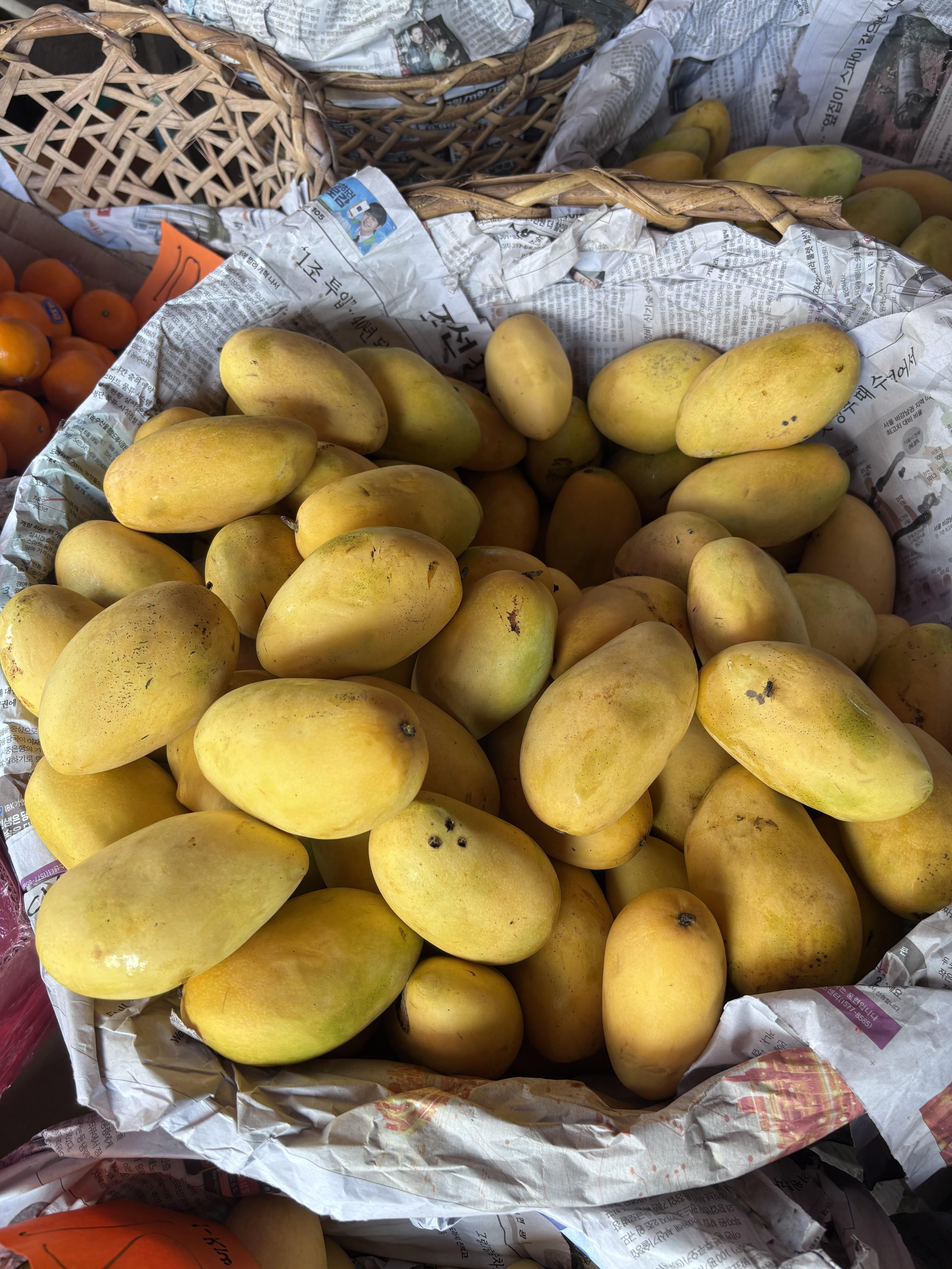mango: (36, 810, 308, 1000), (182, 888, 422, 1066), (697, 641, 933, 821), (38, 581, 239, 775), (520, 623, 698, 837), (195, 678, 428, 839), (369, 792, 560, 965), (256, 527, 462, 678), (603, 888, 726, 1097), (103, 415, 317, 533), (676, 323, 860, 457), (485, 314, 572, 440)
occluded: (684, 765, 861, 994), (483, 705, 652, 869), (413, 570, 558, 740), (505, 860, 613, 1063), (840, 724, 952, 919), (219, 327, 388, 454), (347, 676, 500, 815), (669, 444, 849, 548), (25, 757, 186, 869), (296, 464, 482, 558), (385, 956, 523, 1078), (346, 348, 481, 469), (687, 537, 810, 663), (587, 338, 720, 454), (552, 575, 694, 678), (0, 584, 103, 714), (55, 520, 204, 608), (205, 515, 302, 639), (649, 714, 736, 852), (798, 494, 895, 614), (545, 467, 641, 588), (867, 624, 952, 752), (614, 511, 732, 593), (788, 573, 878, 672), (526, 397, 603, 501), (276, 442, 376, 520), (608, 447, 708, 524), (448, 379, 527, 472), (605, 836, 688, 917), (464, 467, 539, 553), (166, 727, 238, 812), (457, 546, 556, 595), (304, 832, 379, 892), (856, 614, 908, 680), (136, 406, 208, 441), (550, 568, 581, 615), (226, 669, 274, 692)
